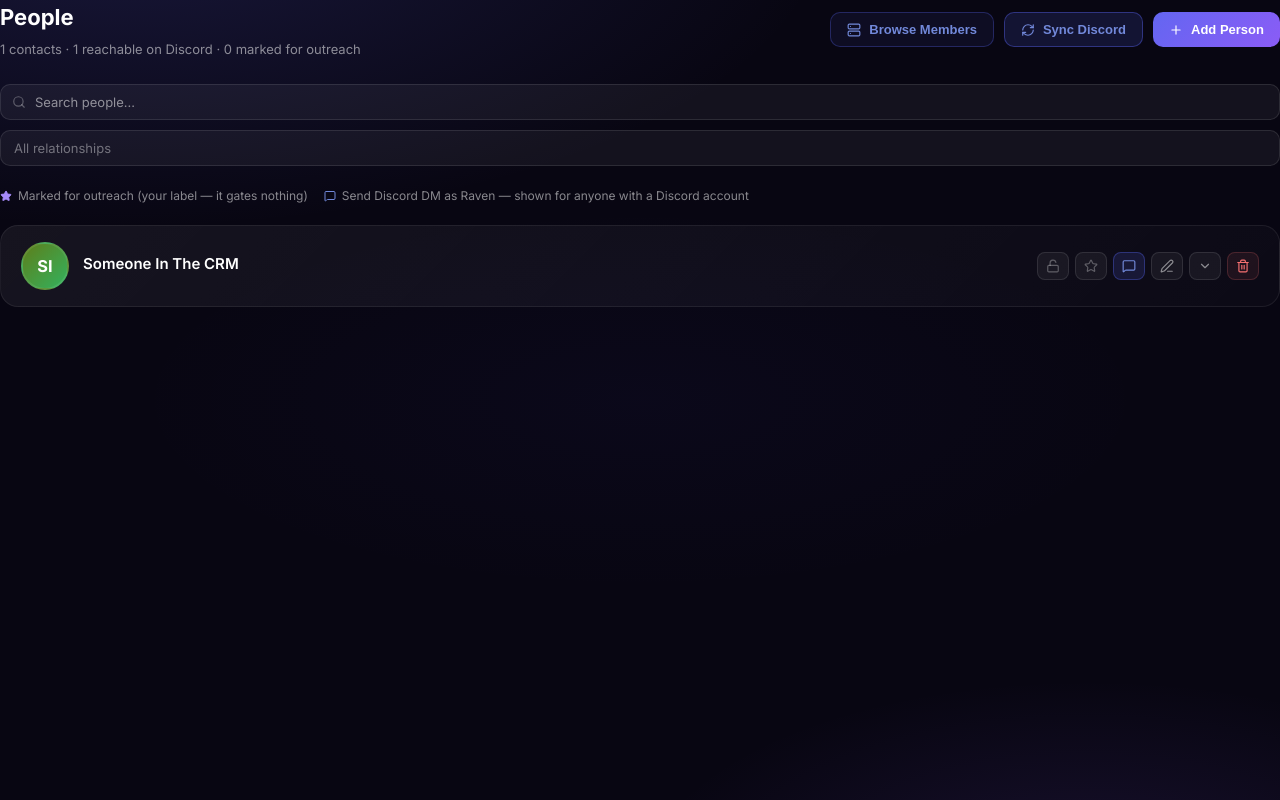
GuildPickerModal — someone already in the CRM › reads "Added" and offers no button to press
Click the button "Browse Members" at (912, 30), box x1=830 y1=12 x2=994 y2=48
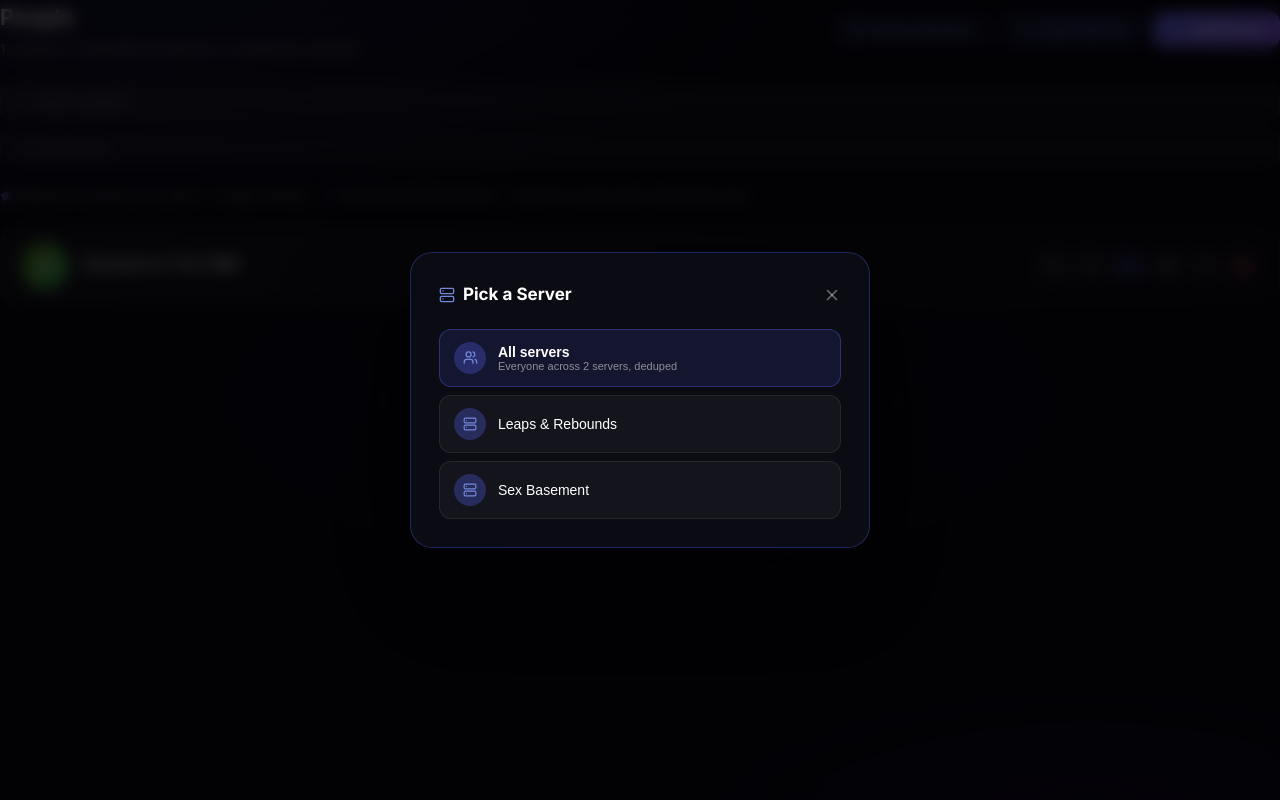
Click the text "All servers" at (534, 352), box x1=498 y1=344 x2=570 y2=360
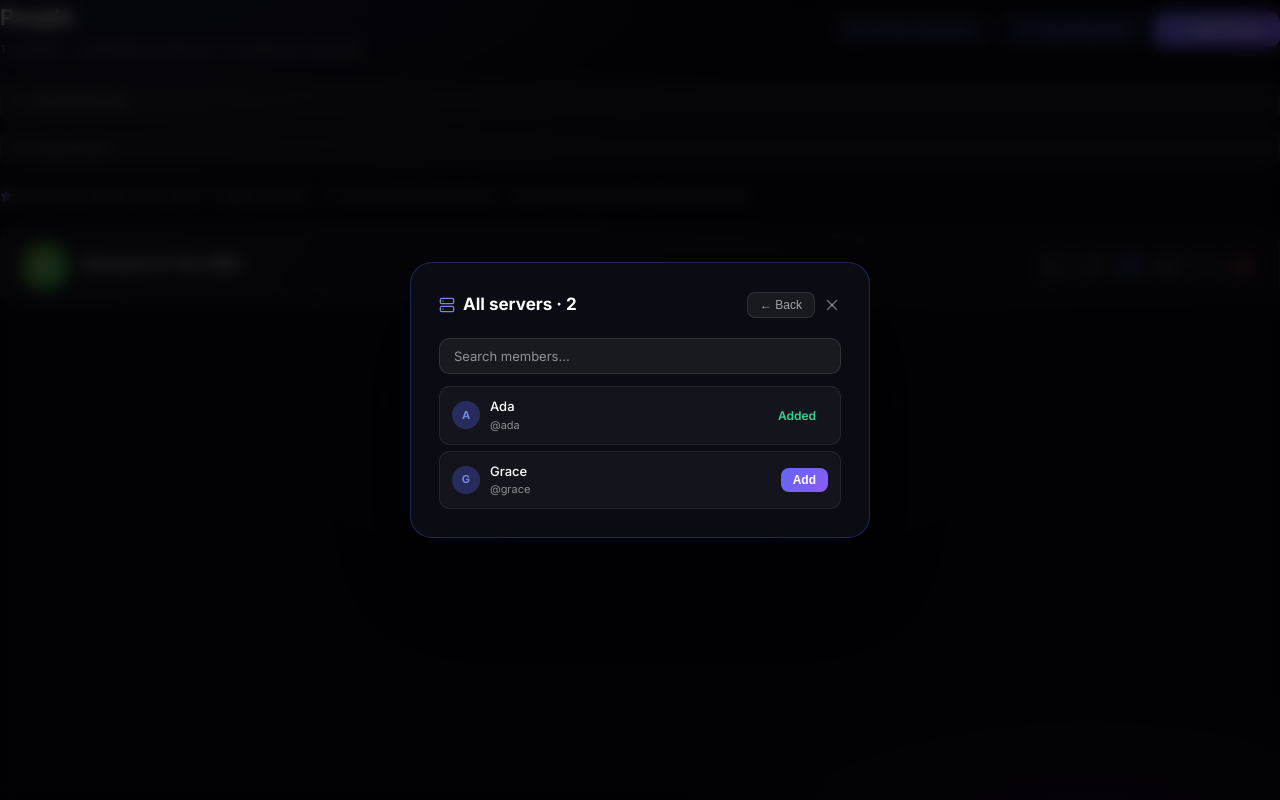
Result: the text "Added" is shown at x1=778 y1=408 x2=816 y2=423
Result: the number of buttons "Add" is 1 at x1=781 y1=468 x2=828 y2=492
